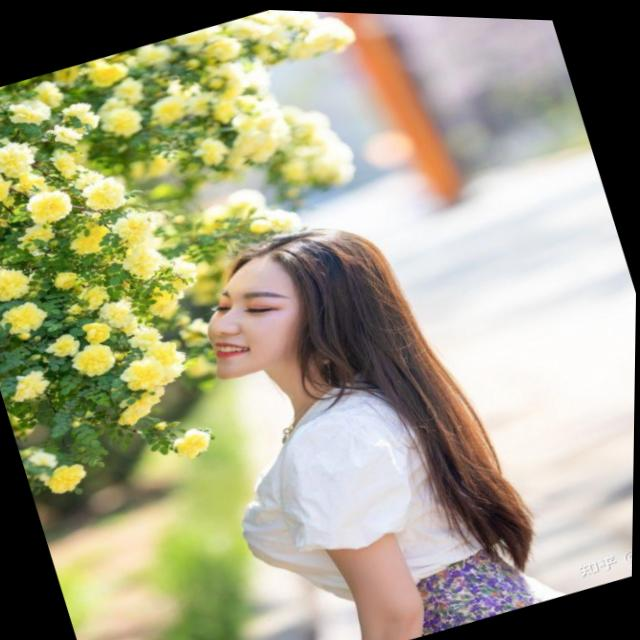Flower: (10, 176, 80, 233), (41, 95, 113, 148), (108, 343, 174, 399), (33, 449, 90, 505), (165, 412, 229, 460), (78, 166, 135, 219), (103, 197, 160, 249), (3, 363, 56, 412), (65, 270, 121, 316), (0, 253, 43, 307), (0, 135, 48, 183), (99, 293, 150, 338), (112, 236, 169, 276), (123, 315, 179, 354), (6, 298, 51, 343), (72, 336, 117, 378), (66, 220, 111, 257), (156, 276, 194, 307), (49, 262, 84, 293), (47, 328, 78, 358), (0, 162, 18, 213)
